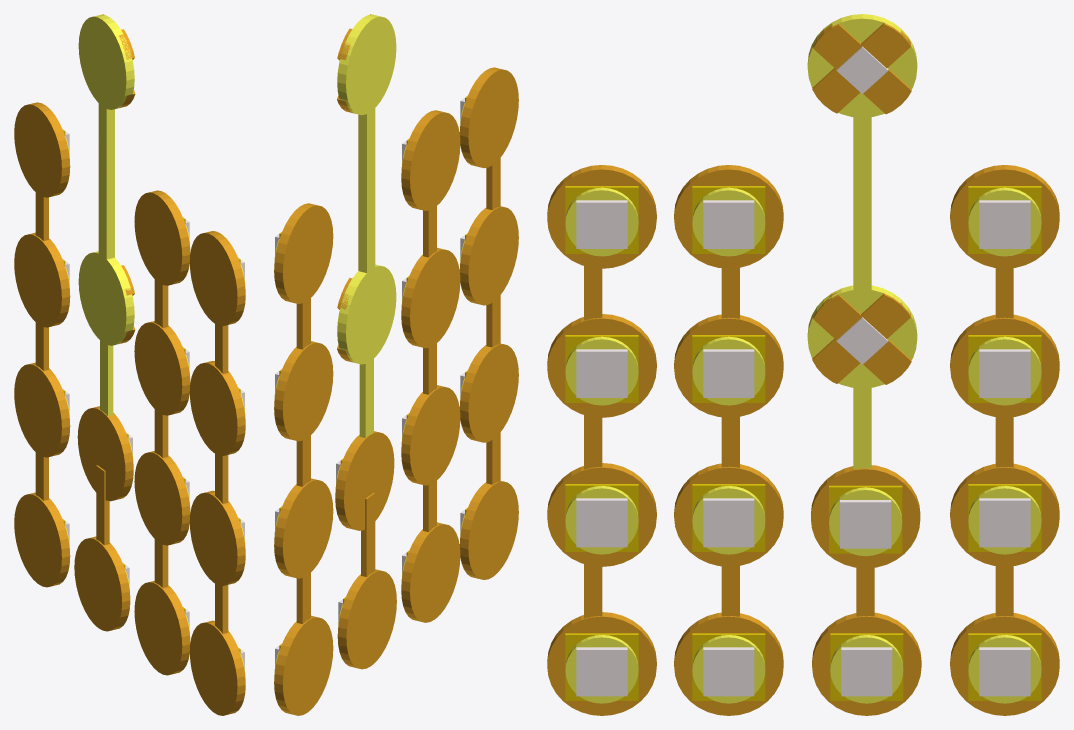
File: variacion.fbx
3 renders of one model, left to right at view 1: azimuth 30°, elevation 25°; view 2: azimuth 150°, elevation 25°; view 3: azimuth 270°, elevation 25°, orthographic. The views are drawn at different scales.
Visible parts, largest first — view 1: Cube.006; view 2: Cube.006; view 3: Cube.006.
Boxes of the visible parts, x1,y1,x2,y2 form: Cube.006: (14,14,245,715); Cube.006: (274,14,518,715); Cube.006: (547,14,1059,715).
Bounding box in the file's own units: 90.53 × 2273 × 1511.
